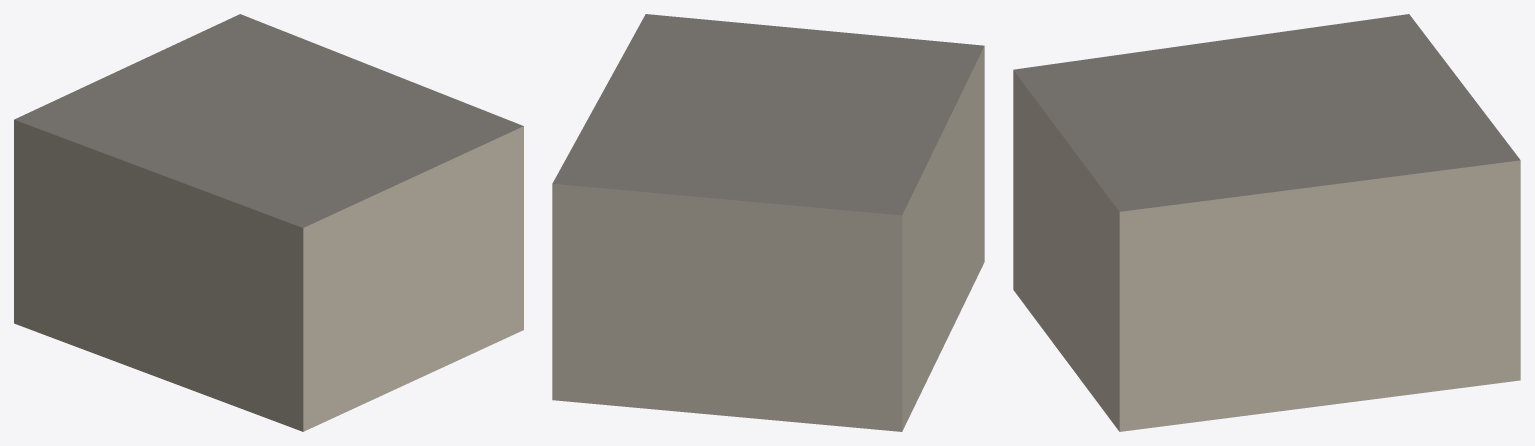
3 renders of one model, left to right at view 1: azimuth 30°, elevation 25°; view 2: azimuth 150°, elevation 25°; view 3: azimuth 270°, elevation 25°, orthographic. The views are drawn at different scales.
Parts seen in each view (by area): view 1: HP-w1157435328; view 2: HP-w1157435328; view 3: HP-w1157435328.
Part boxes in pixels (<box>): HP-w1157435328: <box>14,14,523,431</box>; HP-w1157435328: <box>552,14,984,431</box>; HP-w1157435328: <box>1013,14,1520,431</box>.
Bounding box in the file's own units: 34.71 × 18 × 37.62.
